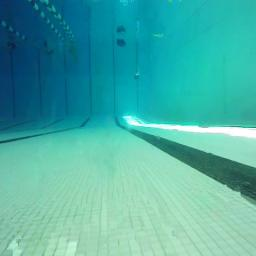Full: (116, 38, 126, 46)
front: (135, 72, 139, 78)
